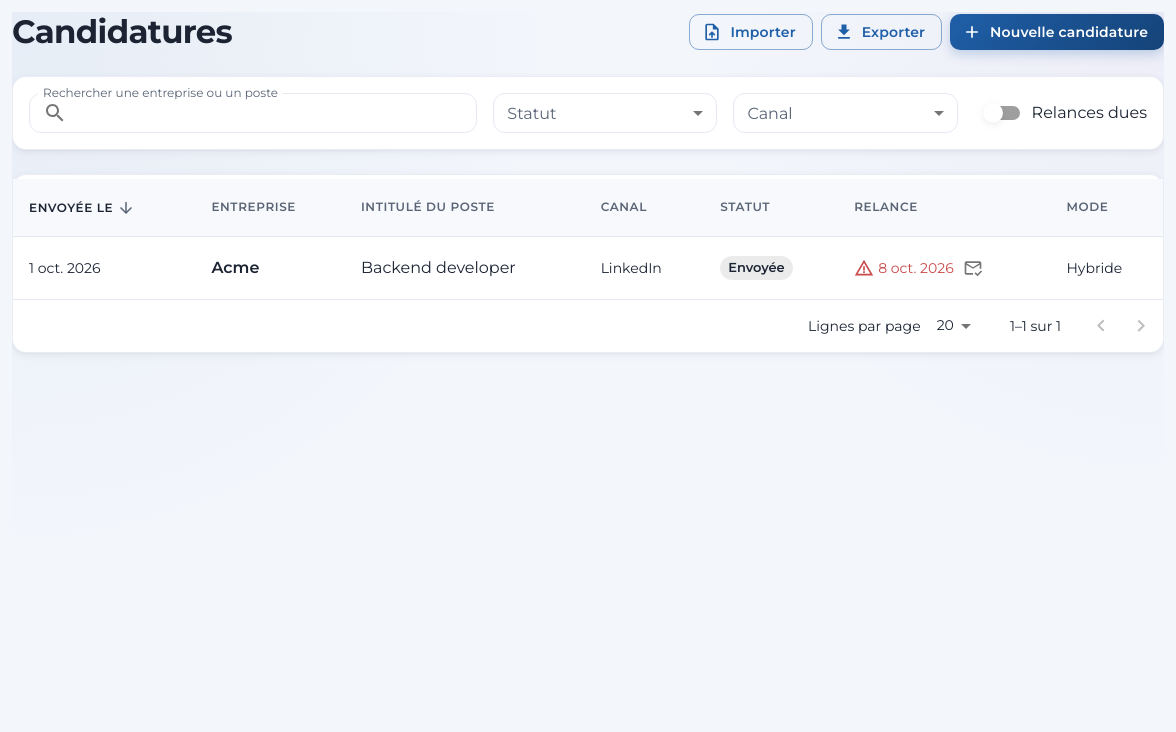
Test: ApplicationsPage › recording a follow-up › turns the same button into an undo, kept in the row after the list reloads
Step 1. Click the button named "J'ai relancé" → (973, 268), box [958,253,988,283]
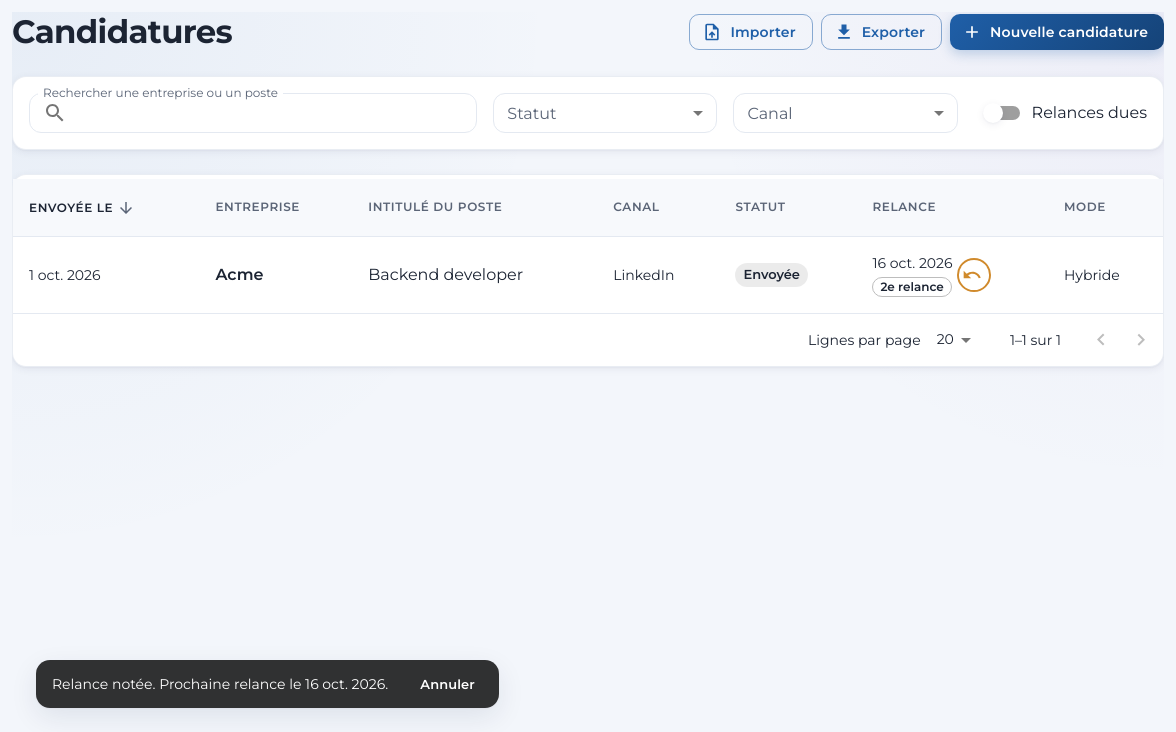
expect the text "2e relance" is shown: met, box [880,279,944,294]
Step 2. Click the button named "Annuler la relance" → (972, 275), box [956,260,986,290]
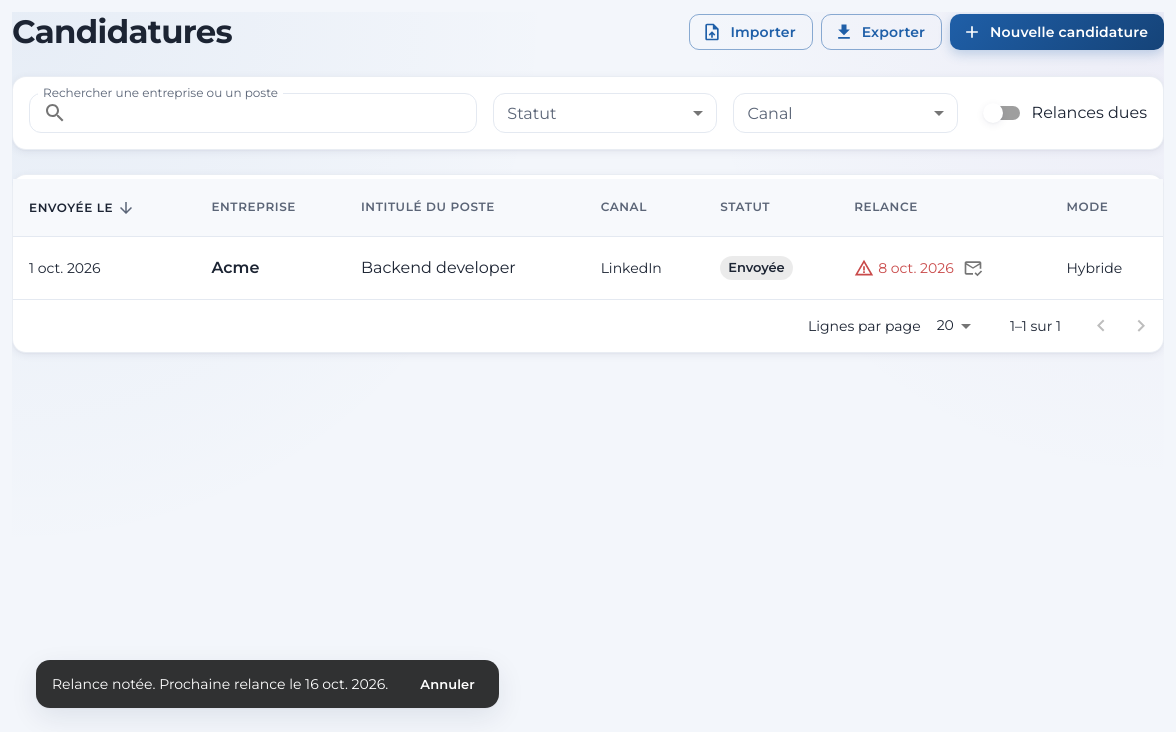
expect the button named "J'ai relancé" is shown: met, box [958,253,988,283]
expect the text "2e relance" is gone: met
